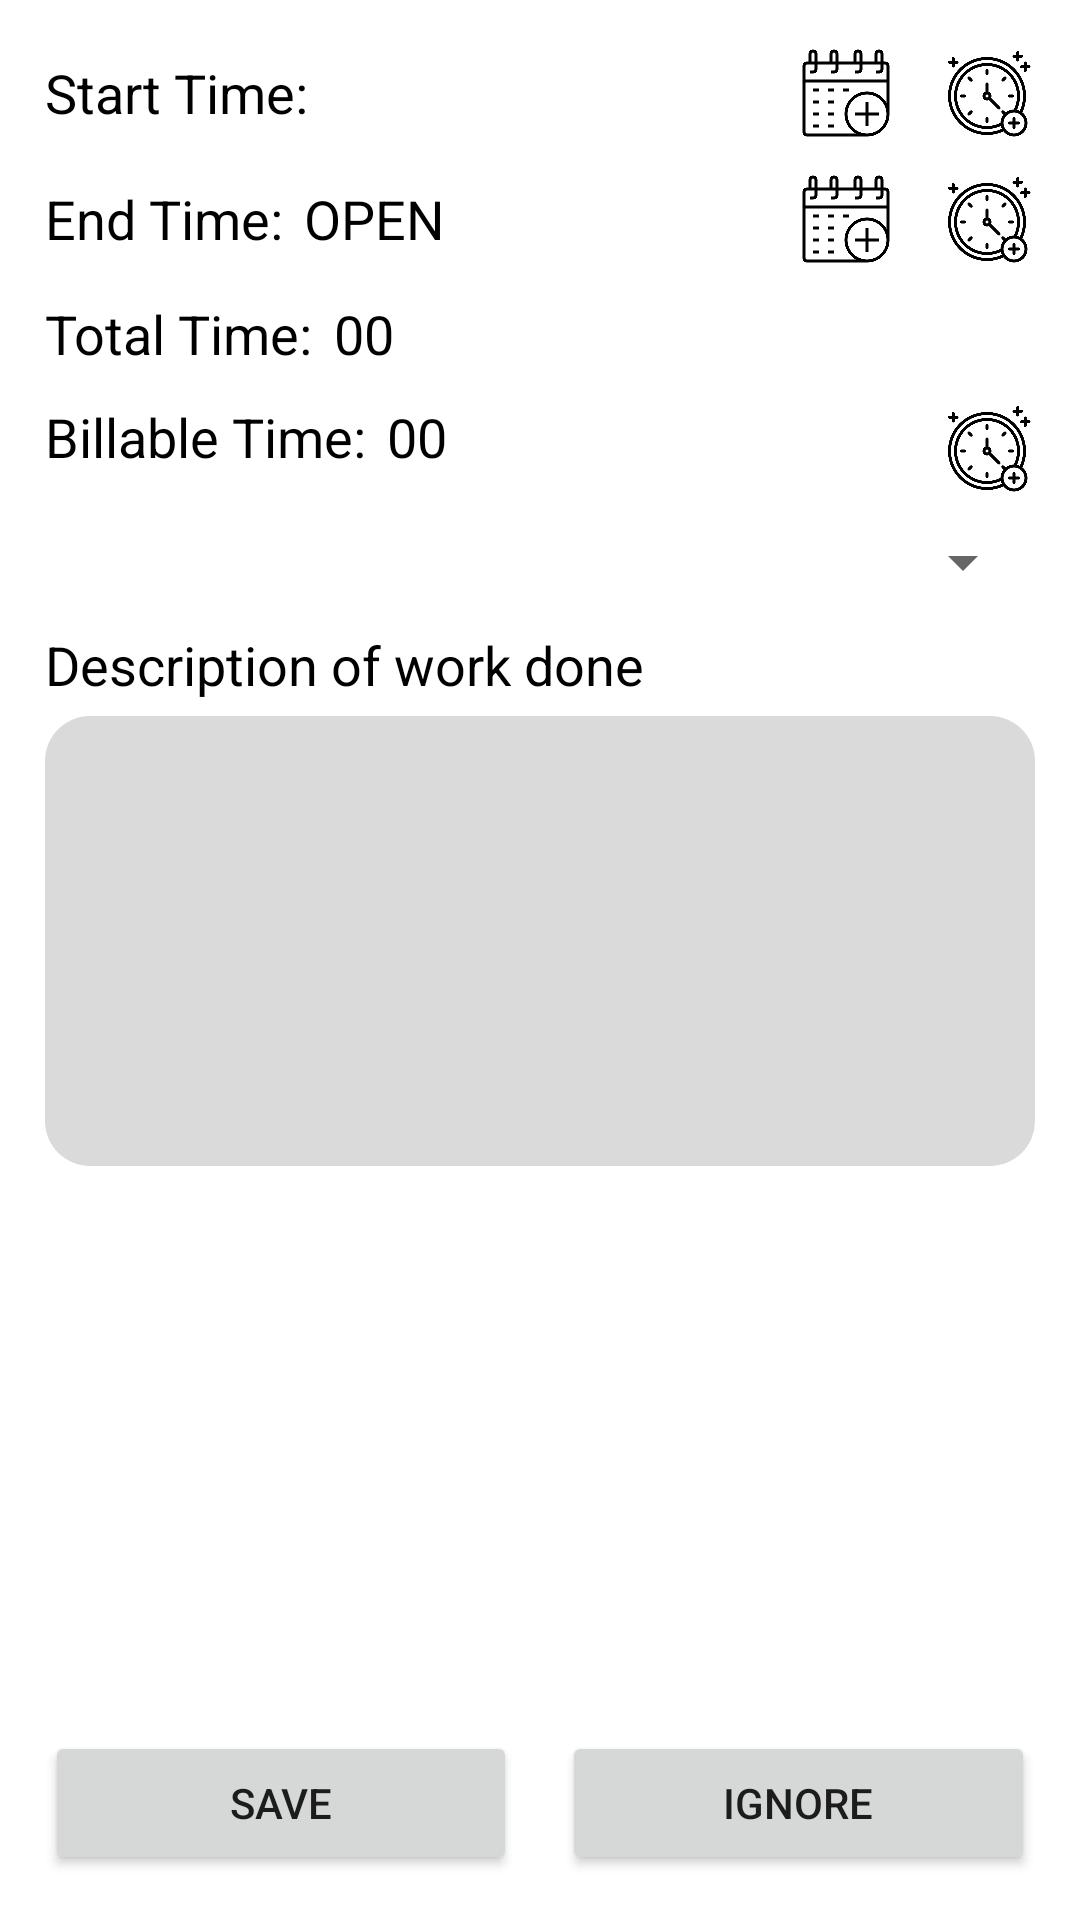

Screen size 1080px×1920px. Icon name, then its box in pixels as (x1, y1, x2, y2):
add date: (802, 49, 890, 137), (802, 175, 890, 263)
add time: (948, 51, 1031, 137), (948, 177, 1031, 263), (948, 406, 1031, 492)
